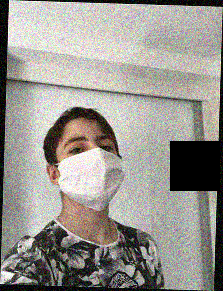with_mask: (55, 129, 124, 214)
